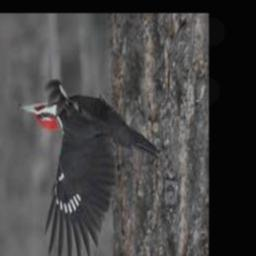Woodpecker: (17, 80, 161, 256)
